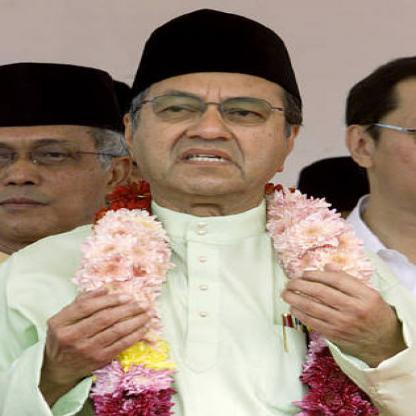face: (134, 29, 296, 200), (1, 80, 113, 240)
